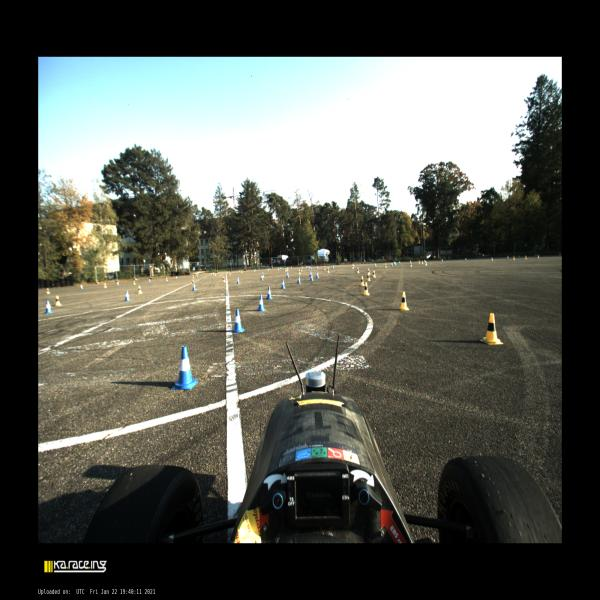blue_cone: (171, 345, 199, 390), (232, 309, 245, 333), (256, 294, 266, 312), (45, 300, 53, 314), (266, 286, 273, 300), (124, 290, 131, 301), (280, 279, 286, 289), (297, 275, 301, 284), (192, 283, 196, 291), (236, 277, 240, 284), (310, 274, 314, 281), (286, 272, 290, 278), (316, 271, 319, 279), (260, 274, 263, 281), (80, 284, 83, 289), (116, 281, 119, 285), (301, 265, 304, 269), (309, 270, 311, 276), (148, 278, 150, 283), (316, 265, 318, 270), (464, 258, 467, 261), (176, 276, 178, 280), (310, 266, 312, 270), (308, 265, 310, 269), (307, 265, 309, 269), (305, 265, 307, 269), (390, 262, 392, 266), (394, 262, 396, 266), (507, 255, 509, 259), (212, 272, 214, 276), (353, 264, 355, 268), (196, 274, 198, 277), (333, 264, 334, 270), (441, 259, 443, 262), (559, 253, 561, 256), (535, 255, 537, 258), (518, 255, 520, 258), (375, 263, 376, 267), (280, 266, 281, 270), (255, 268, 256, 272), (227, 271, 228, 274), (291, 266, 292, 269), (399, 261, 400, 264), (410, 260, 411, 263), (393, 261, 394, 264), (239, 270, 240, 272), (424, 260, 425, 262), (270, 268, 270, 270)
yellow_cone: (480, 313, 504, 345), (398, 291, 410, 312), (363, 282, 370, 296), (55, 295, 62, 307), (360, 276, 365, 287), (138, 286, 143, 294), (366, 273, 371, 281), (372, 270, 376, 278), (366, 267, 370, 275), (46, 288, 51, 294), (222, 276, 226, 283), (356, 267, 360, 274), (192, 280, 196, 286), (327, 267, 330, 273), (298, 269, 301, 275), (384, 263, 387, 268), (104, 283, 107, 288), (133, 280, 136, 285), (323, 266, 326, 270), (262, 272, 264, 278), (410, 262, 412, 267), (425, 261, 427, 266), (421, 260, 423, 265), (352, 264, 354, 269), (166, 277, 168, 282), (300, 267, 302, 272), (525, 255, 527, 259), (513, 256, 515, 260), (491, 257, 493, 261), (418, 260, 420, 264), (192, 274, 194, 278), (537, 255, 539, 258), (284, 268, 286, 271), (286, 268, 288, 271), (229, 271, 231, 274), (241, 270, 243, 273), (267, 268, 269, 271), (278, 267, 279, 271), (215, 273, 216, 276), (254, 269, 255, 272)
